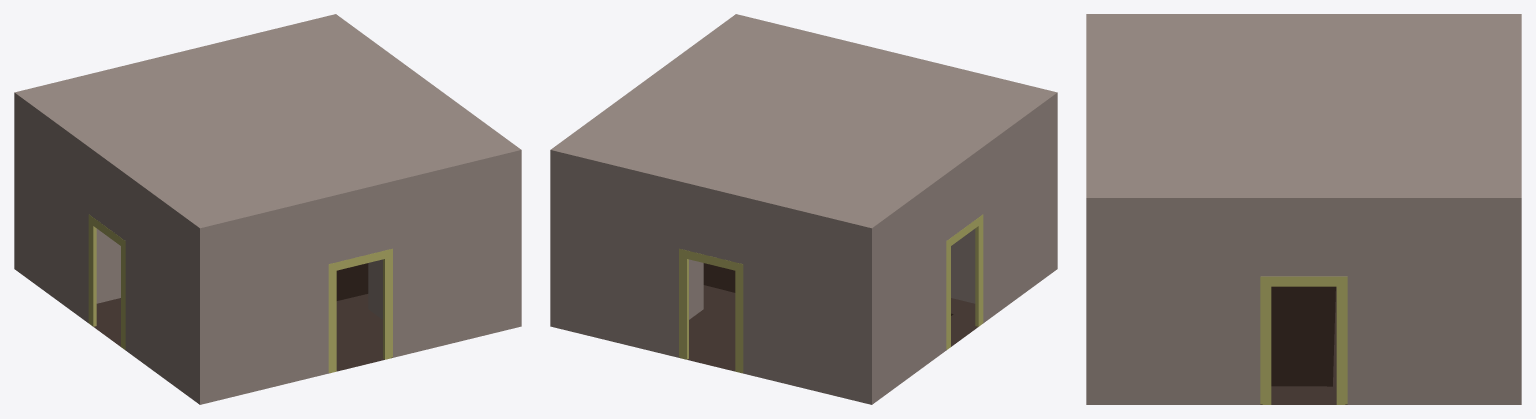
File: Room18_DustyHallway.fbx
The picture shows the model from 3 angles, left to right: view 1: azimuth 30°, elevation 25°; view 2: azimuth 150°, elevation 25°; view 3: azimuth 270°, elevation 25°; orthographic projection. The views are drawn at different scales.
Visible parts, largest first — view 1: Roof, WallSlicedPosZ, WallSlicedPosX, WallSlicedPosZ32, WallSlicedPosX5, Floor, DoorFramePosZ, DoorFramePosX, pCube85, pPlane7, pCube87, WallSlicedNegX (+1 smaller); view 2: Roof, WallSlicedNegZ, WallSlicedPosX, WallSlicedNegZ24, WallSlicedPosX5, Floor, DoorFrameNegZ, DoorFramePosX, pCube84, pCube86, pPlane7, WallSlicedPosZ; view 3: Roof, WallSlicedNegX, WallSlicedNegX18, pPlane7, DoorFrameNegX, Floor, WallSlicedNegZ, WallSlicedPosZ, WallSlicedPosX.
Part boxes in pixels (<box>): Roof: <box>17,15,518,227</box>; WallSlicedPosZ: <box>199,149,521,364</box>; WallSlicedPosX: <box>14,92,201,364</box>; WallSlicedPosZ32: <box>198,286,521,404</box>; WallSlicedPosX5: <box>14,229,201,404</box>; Floor: <box>89,294,392,373</box>; DoorFramePosZ: <box>328,248,392,372</box>; DoorFramePosX: <box>88,214,125,349</box>; pCube85: <box>96,228,120,303</box>; pPlane7: <box>336,263,368,300</box>; pCube87: <box>368,259,382,319</box>; WallSlicedNegX: <box>335,14,521,286</box>; Roof: <box>553,15,1054,227</box>; WallSlicedNegZ: <box>550,149,872,364</box>; WallSlicedPosX: <box>870,92,1057,364</box>; WallSlicedNegZ24: <box>550,286,872,404</box>; WallSlicedPosX5: <box>869,230,1056,404</box>; Floor: <box>679,285,982,373</box>; DoorFrameNegZ: <box>679,248,743,372</box>; DoorFramePosX: <box>946,214,983,349</box>; pCube84: <box>951,228,975,303</box>; pCube86: <box>689,259,703,319</box>; pPlane7: <box>703,263,953,315</box>; WallSlicedPosZ: <box>737,14,1057,228</box>; Roof: <box>1088,14,1519,197</box>; WallSlicedNegX: <box>1086,197,1521,357</box>; WallSlicedNegX18: <box>1086,357,1521,404</box>; pPlane7: <box>1271,286,1335,386</box>; DoorFrameNegX: <box>1260,276,1347,404</box>; Floor: <box>1260,286,1347,404</box>; WallSlicedNegZ: <box>1520,14,1521,357</box>; WallSlicedPosZ: <box>1086,14,1087,357</box>; WallSlicedPosX: <box>1086,14,1521,14</box>.
Bounding box in the file's own units: 800 × 420 × 800.
